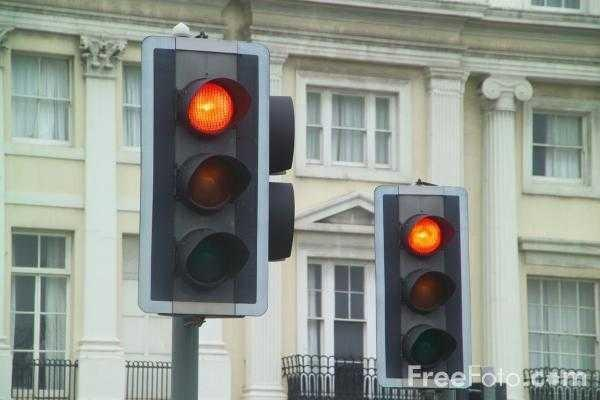red_light: (139, 36, 270, 316), (374, 186, 471, 387)
